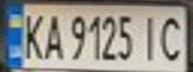1: (84, 11, 103, 61)
2: (100, 11, 121, 61)
5: (115, 11, 139, 62)
9: (66, 11, 87, 61)
A: (39, 10, 66, 61)
C: (154, 11, 190, 63)
I: (136, 11, 163, 62)
K: (18, 9, 48, 61)
